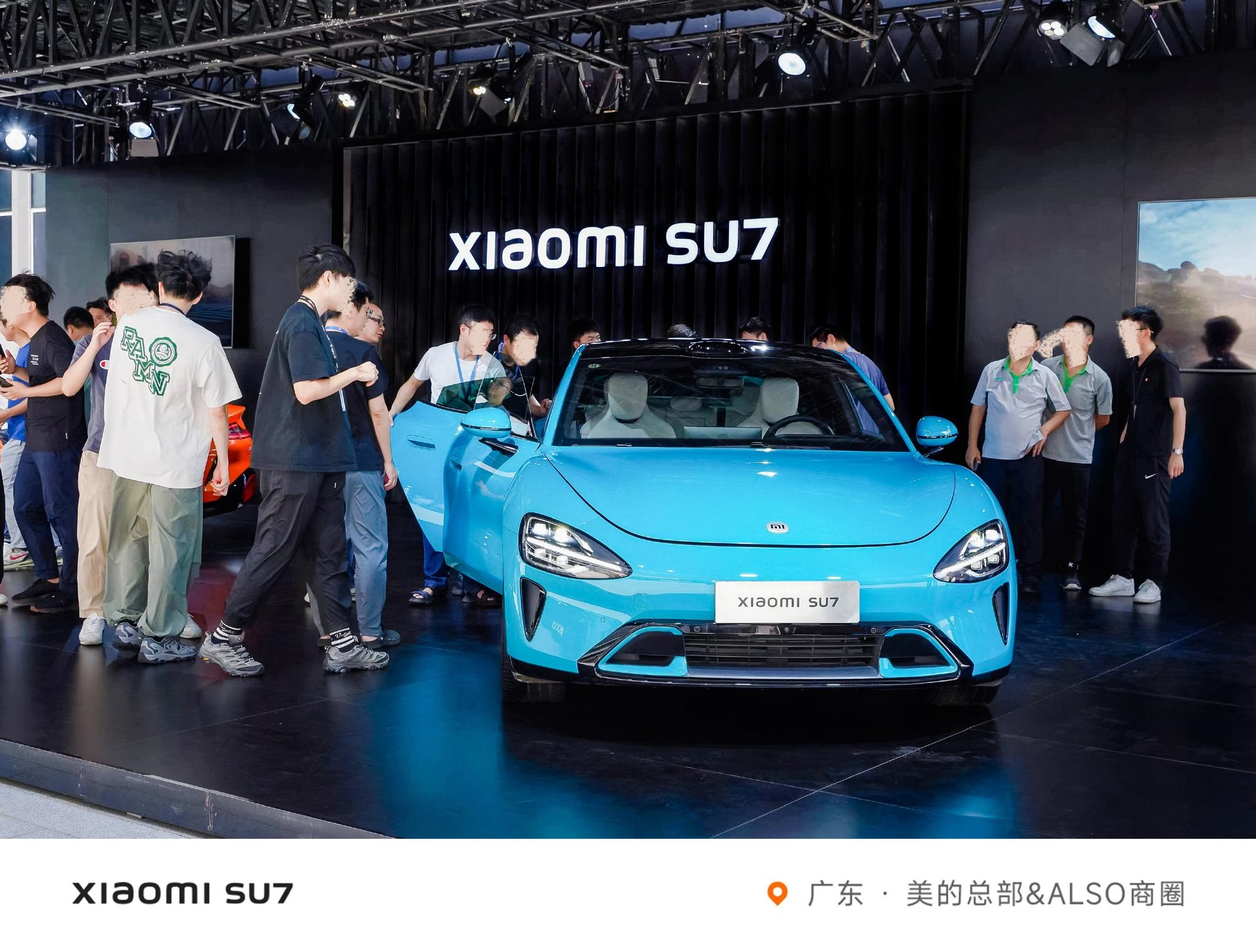XIAOMI: (765, 522, 789, 533)
